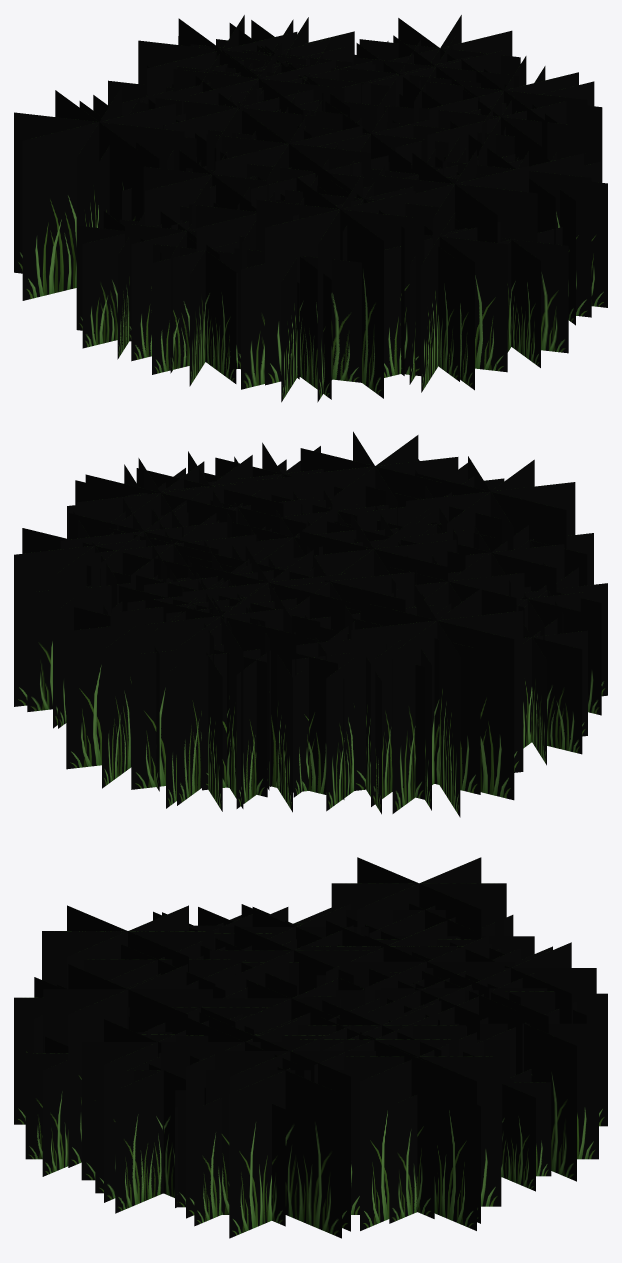
The model's file is SM_Grass_Simple.fbx.
3 renders of one model, top to bottom at view 1: azimuth 30°, elevation 25°; view 2: azimuth 150°, elevation 25°; view 3: azimuth 270°, elevation 25°, orthographic.
Parts seen in each view (by area): view 1: SM_Grass_Simple; view 2: SM_Grass_Simple; view 3: SM_Grass_Simple.
Part boxes in pixels (x1,y1,x2,y2): SM_Grass_Simple: (14, 15, 607, 402); SM_Grass_Simple: (14, 431, 607, 817); SM_Grass_Simple: (14, 857, 607, 1238).
Bounding box in the file's own units: 121 × 36.75 × 124.
